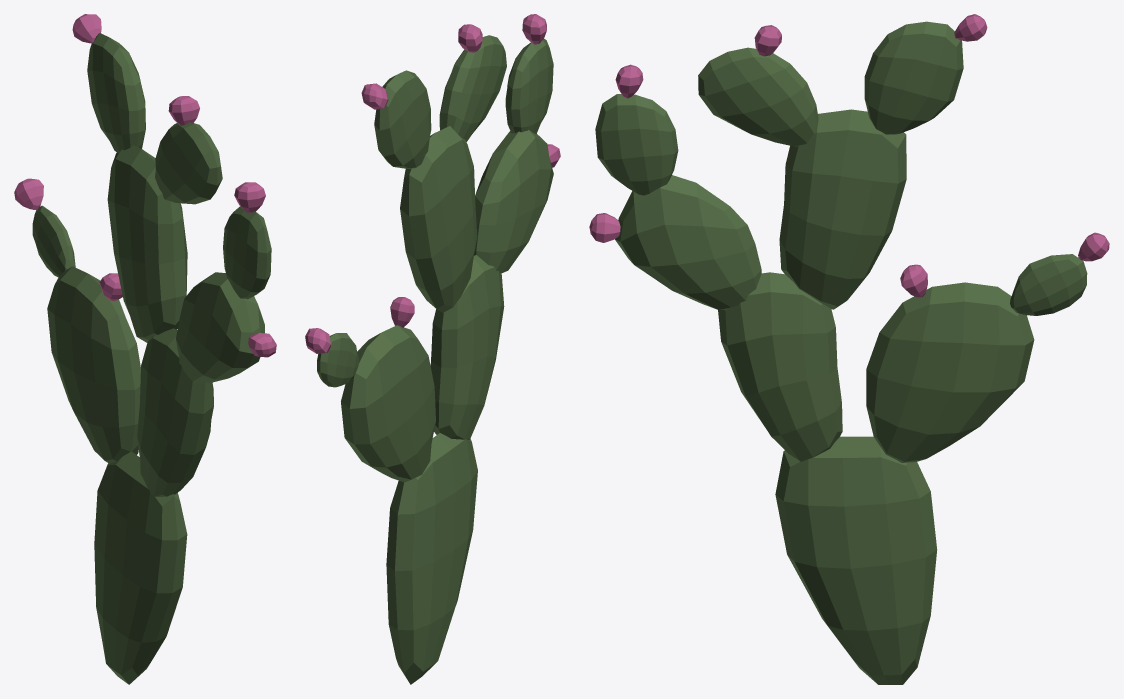
The model's file is CactusFlowers_4.glb.
The picture shows the model from 3 angles, left to right: view 1: azimuth 30°, elevation 25°; view 2: azimuth 150°, elevation 25°; view 3: azimuth 270°, elevation 25°; orthographic projection. The views are drawn at different scales.
Parts seen in each view (by area): view 1: CactusFlowers_4; view 2: CactusFlowers_4; view 3: CactusFlowers_4.
Boxes of the visible parts, <box> form: CactusFlowers_4: <box>14,14,276,684</box>; CactusFlowers_4: <box>305,14,560,684</box>; CactusFlowers_4: <box>589,14,1109,684</box>.
Bounding box in the file's own units: 0.11 × 1.38 × 0.972.
